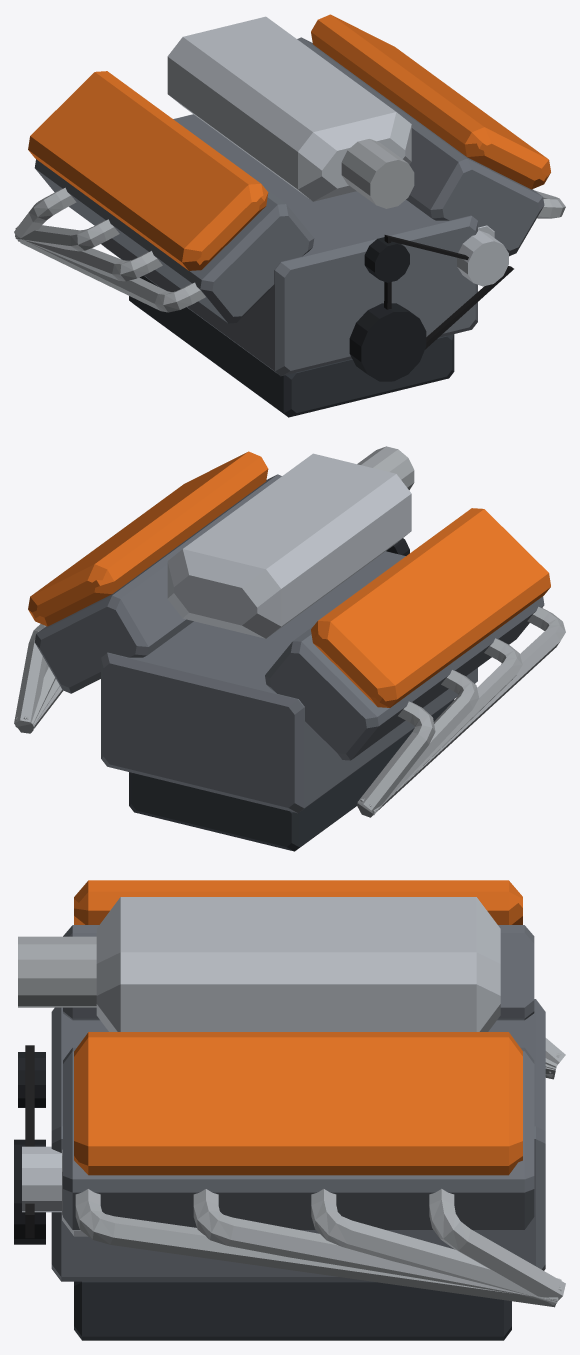
The model's file is crate_kmw_v8_57.glb.
3 renders of one model, top to bottom at view 1: azimuth 30°, elevation 25°; view 2: azimuth 150°, elevation 25°; view 3: azimuth 270°, elevation 25°, orthographic. The views are drawn at different scales.
Parts seen in each view (by area): view 1: model; view 2: model; view 3: model.
Part boxes in pixels (x1,y1,x2,y2): model: (14, 14, 565, 417); model: (14, 446, 565, 851); model: (14, 880, 565, 1340).
Size of the model in its own units: 0.7979 by 0.499 by 0.6884.
3 materials, 1 textured.
